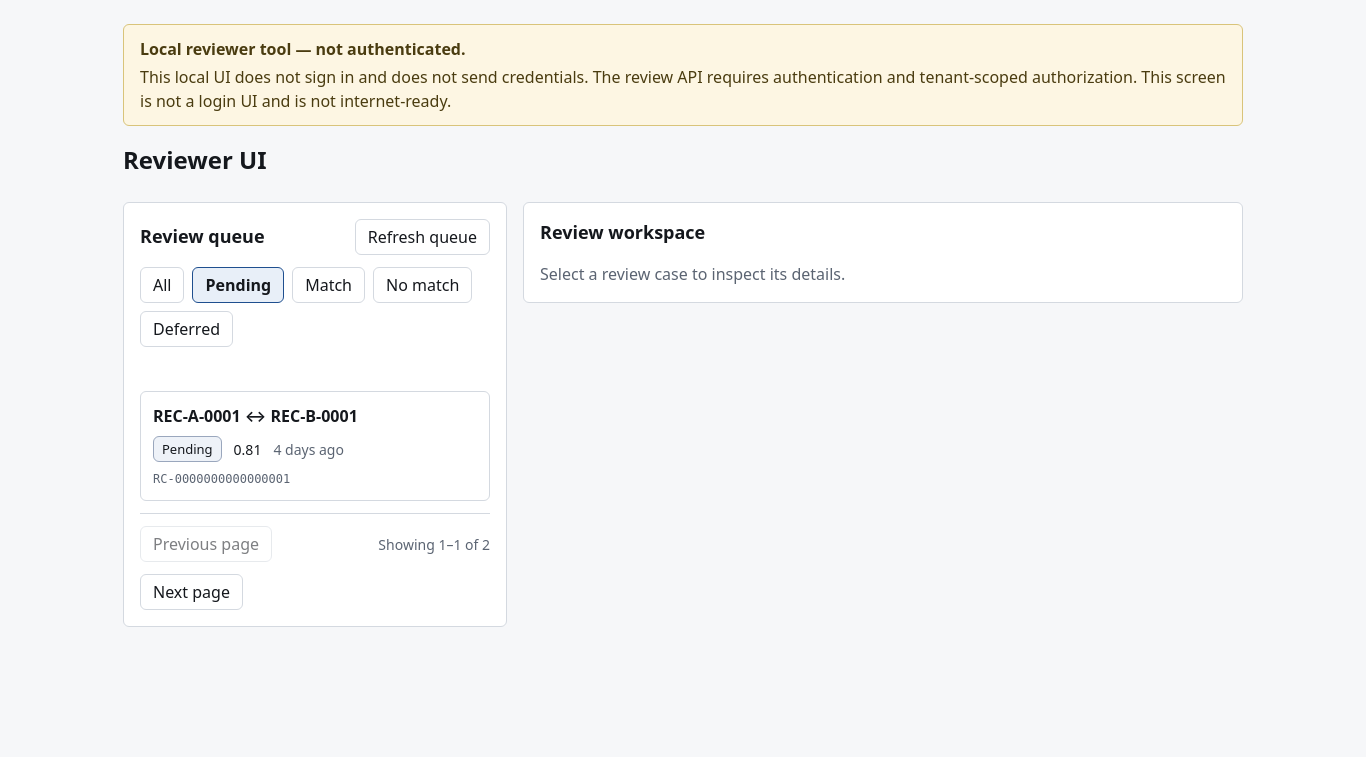
selecting a case › keeps the case open when the queue view moves away from it
Click the button that starts with "REC-A-0001".
click(315, 446)  # box [140,391,490,501]
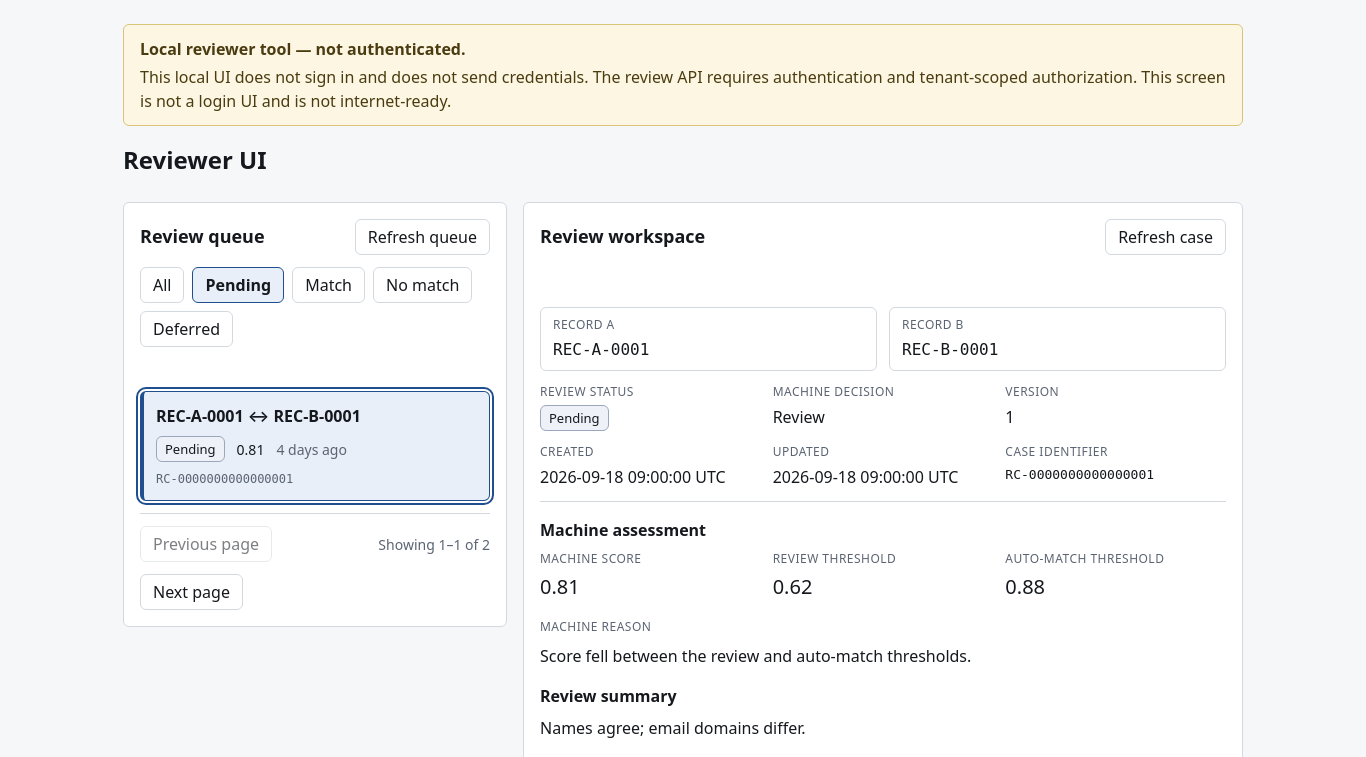
Check: the heading "Machine assessment" is shown, box [540,519,706,541]
Click the button "Next page".
click(192, 592)  # box [140,574,243,610]
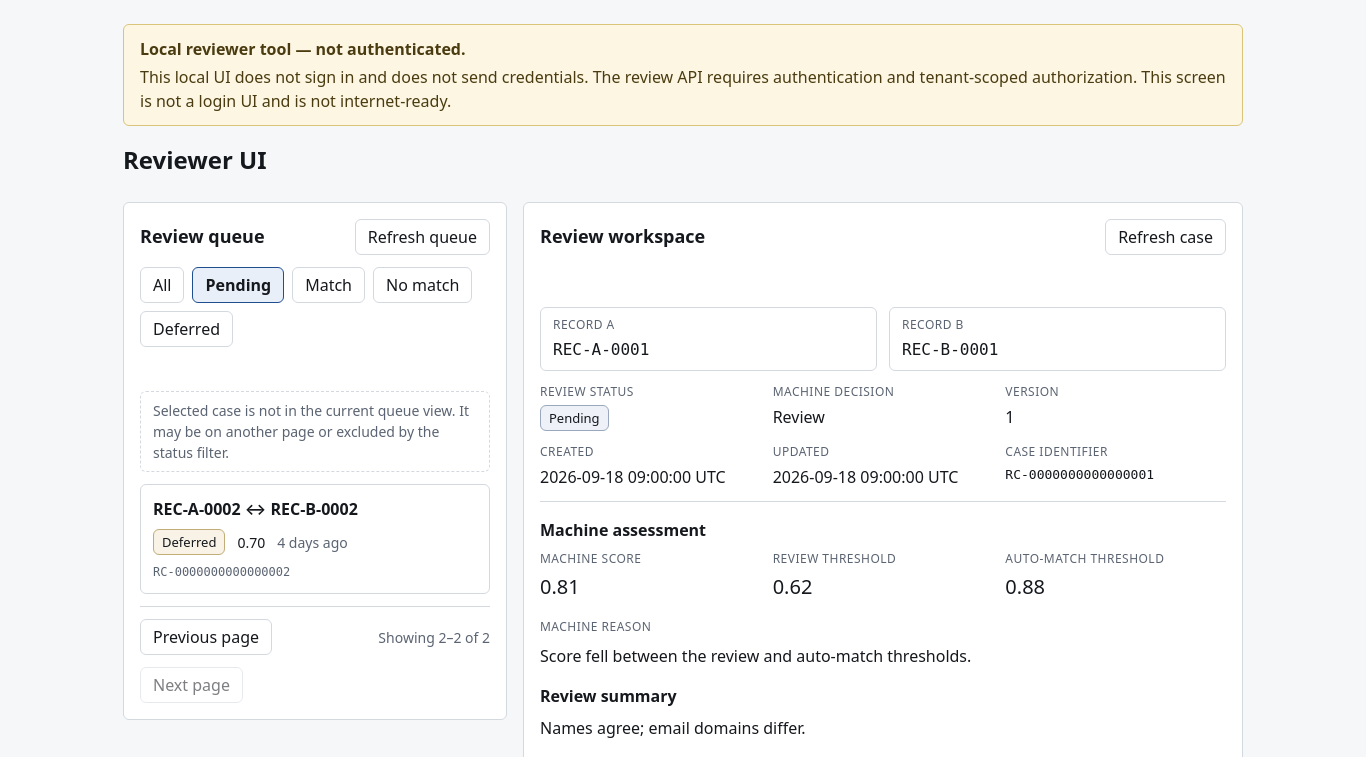
Check: the text "REC-A-0001" is shown, box [553,340,649,359]
Check: the text "not in the current queue view" is shown, box [153,401,469,462]
